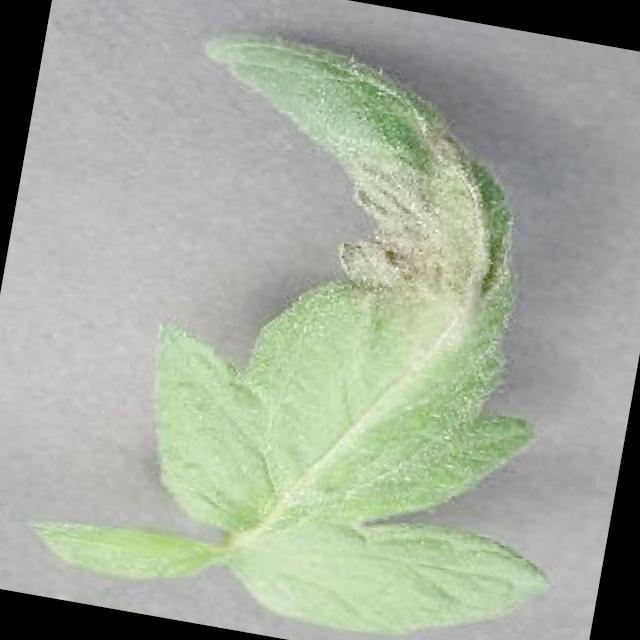Tomato healthy leaf: (23, 508, 228, 605)
Tomato late blight leaf: (98, 17, 632, 640)
